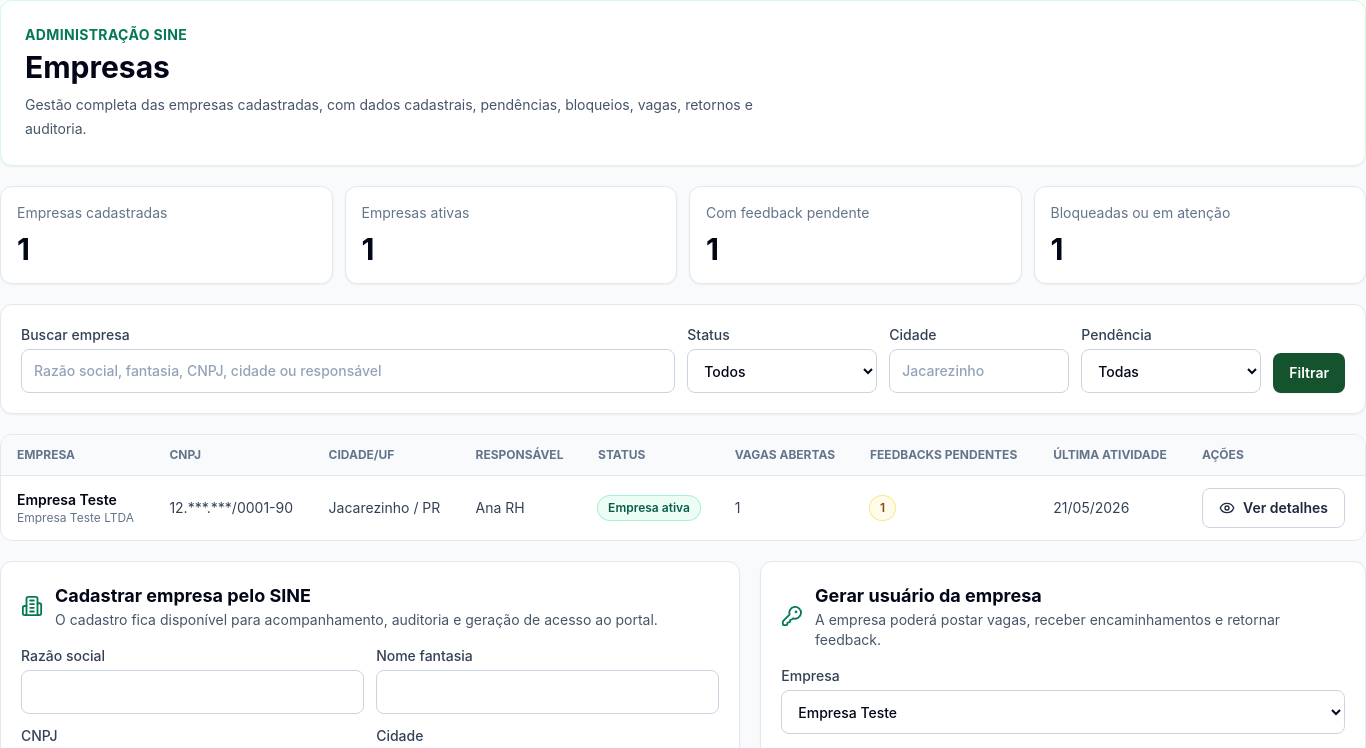
Módulo administrativo de empresas › SINE abre listagem e navega para detalhes
Expected: the text "Empresa Teste" is shown, [17, 491, 117, 508]
Step 1. Click the button "Ver detalhes" → (1274, 508), box [1202, 488, 1345, 528]
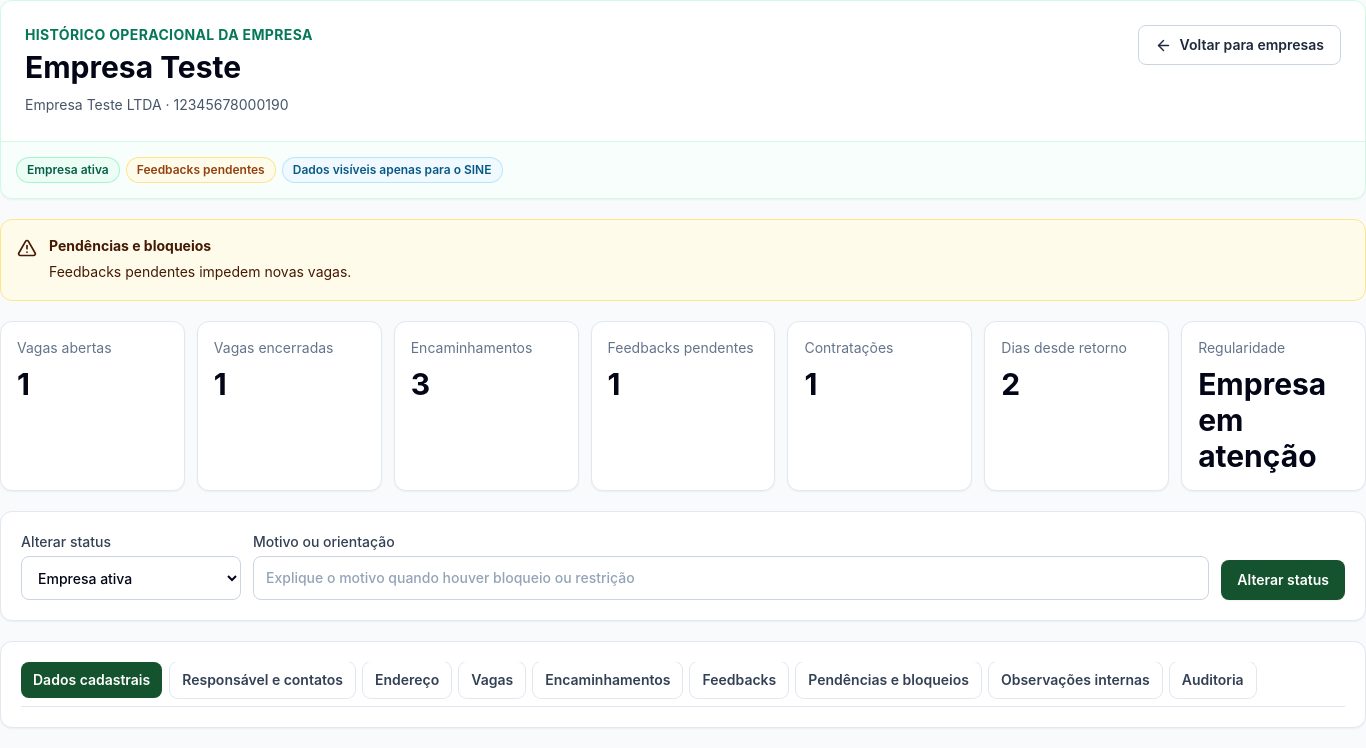
Expected: the text "Histórico operacional da empresa" is shown, [25, 25, 313, 45]
Expected: the text "Empresa Teste LTDA · 12345678000190" is shown, [25, 93, 313, 117]
